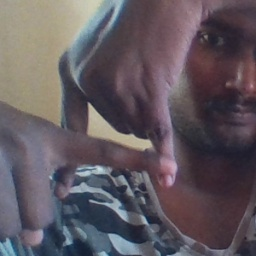H: (45, 63, 185, 194)
